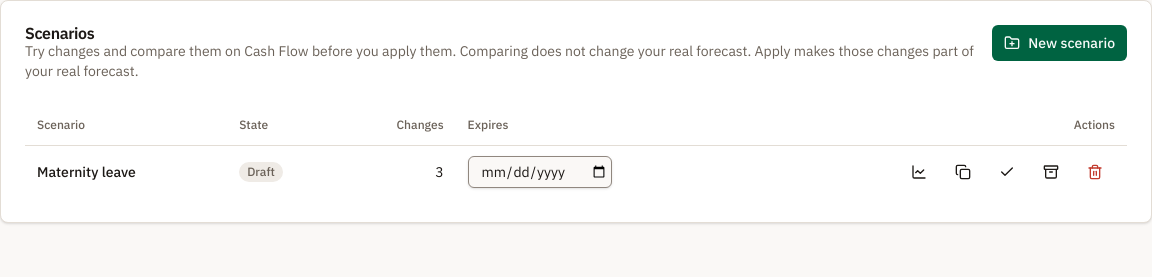
Scenario: a refused row action says so (personal-cfo-5ie.20) › Duplicate › shows the reason when the app refuses it, and releases the row
This screenshot has width=1152, height=277.
Click the button named "duplicate maternity leave": {"x": 963, "y": 172} [943,154,983,190]
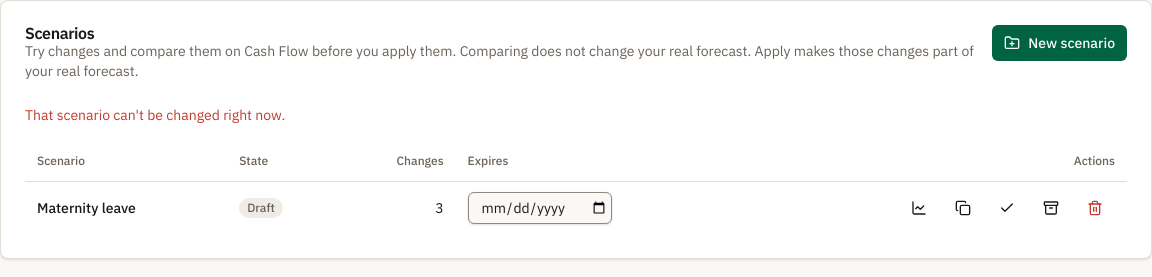
Check: the button named "open maternity leave" is enabled, box [899,190,939,226]
Check: the message reads "That scenario can't be changed right now.", box [25,106,285,124]
